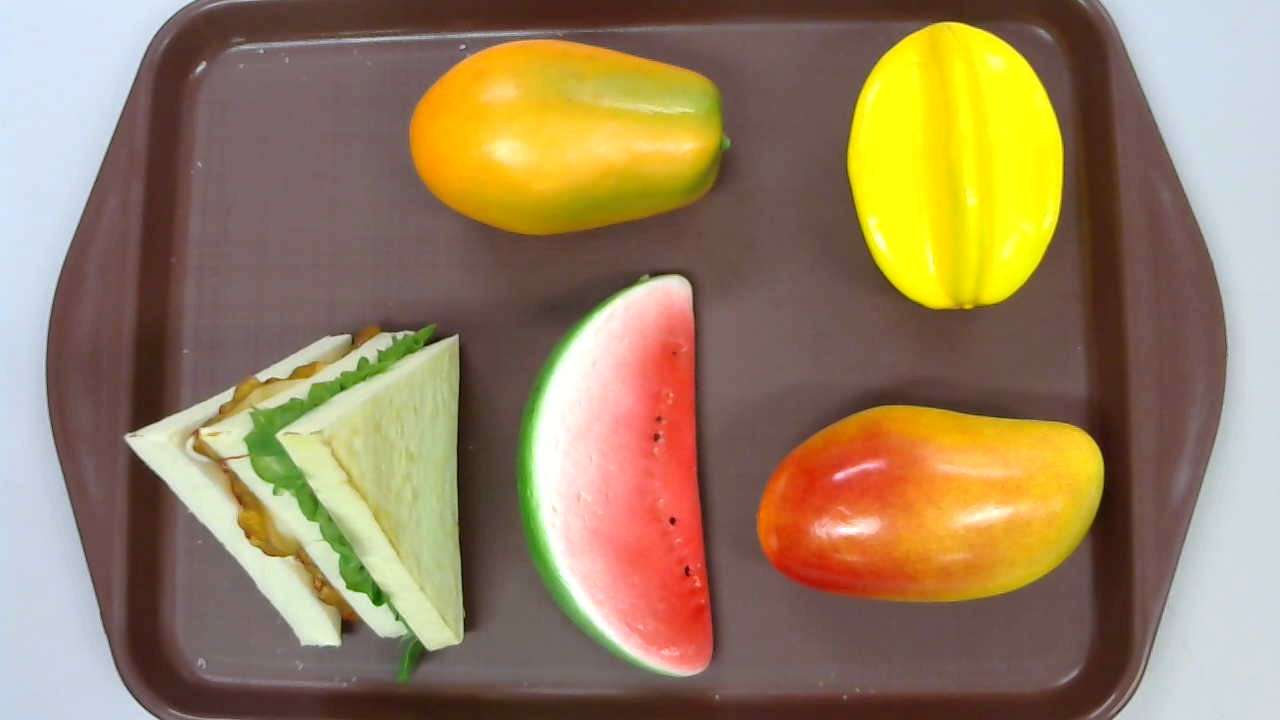papaya: (409, 38, 732, 235)
red mango: (755, 405, 1104, 603)
sandwich: (122, 322, 466, 682)
star fruit: (847, 21, 1063, 309)
watermelon: (515, 273, 715, 678)
